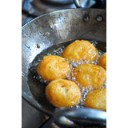bonda: (47, 79, 82, 107), (71, 62, 106, 88), (38, 55, 69, 80), (65, 39, 97, 63), (87, 87, 106, 111)
